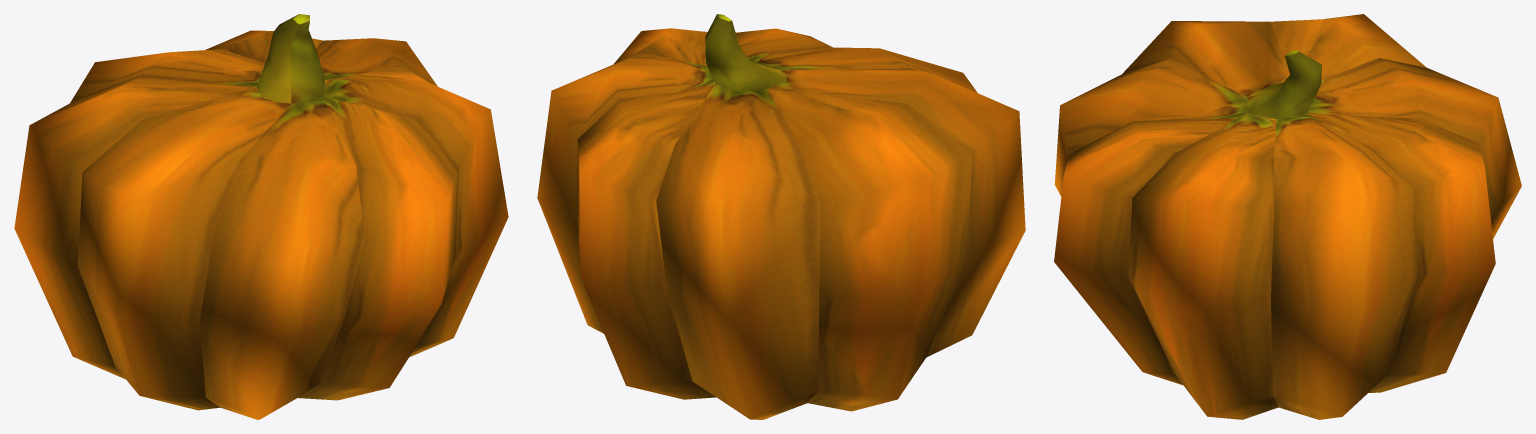
File: ruraltown_pumpking_large_01.fbx
The picture shows the model from 3 angles, left to right: view 1: azimuth 30°, elevation 25°; view 2: azimuth 150°, elevation 25°; view 3: azimuth 270°, elevation 25°; orthographic projection.
Parts seen in each view (by area): view 1: ruraltown_pumpking_large_01; view 2: ruraltown_pumpking_large_01; view 3: ruraltown_pumpking_large_01.
Part boxes in pixels (x1=…): ruraltown_pumpking_large_01: x1=14, y1=14, x2=508, y2=419; ruraltown_pumpking_large_01: x1=537, y1=14, x2=1025, y2=419; ruraltown_pumpking_large_01: x1=1054, y1=14, x2=1521, y2=419.
Size of the model in its own units: 0.7901 by 0.6706 by 0.823.
